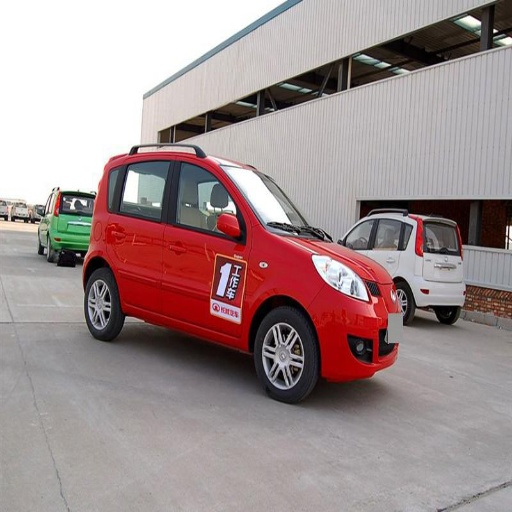front_bumper: (313, 280, 398, 379)
front_right_door: (164, 157, 247, 336)
front_right_light: (313, 253, 370, 300)
